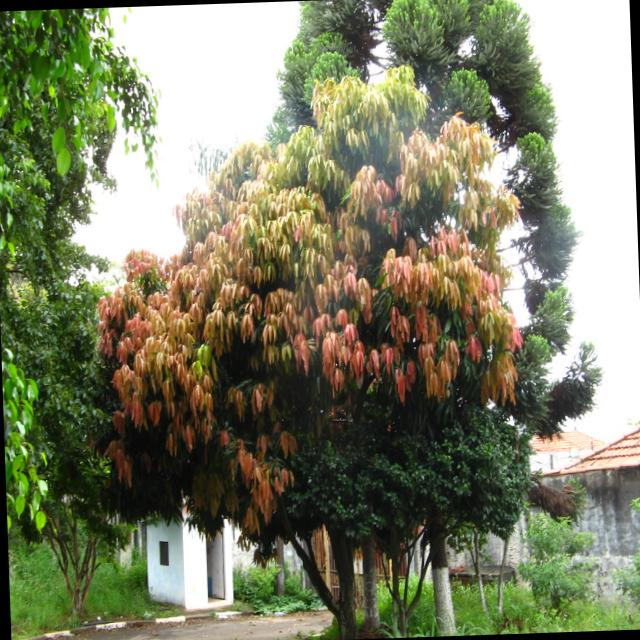Medicinal-Rose Apple: (104, 92, 518, 440), (100, 248, 397, 640)
